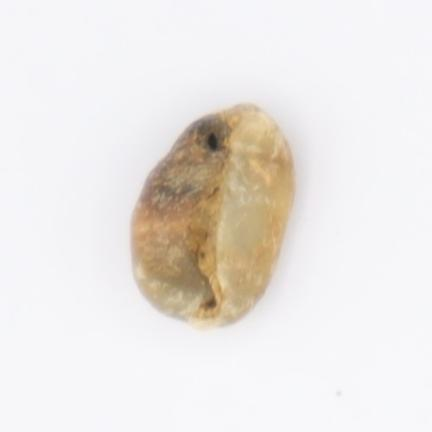partial-black: (131, 105, 293, 326)
